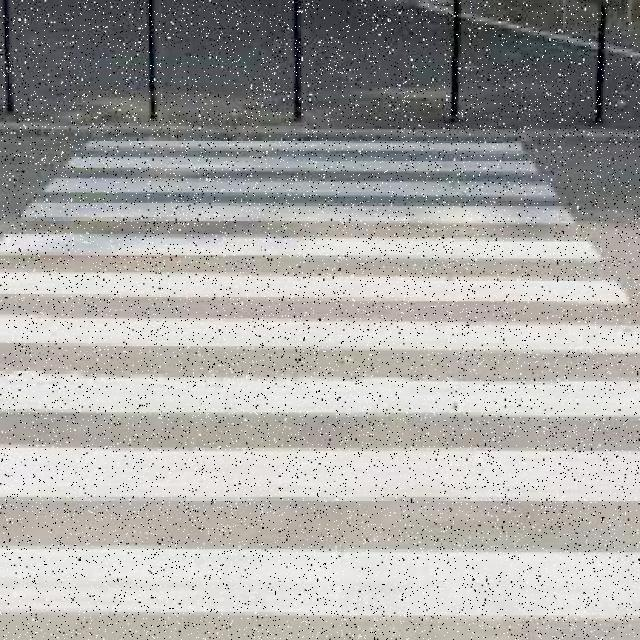crosswalk: (5, 132, 639, 636)
